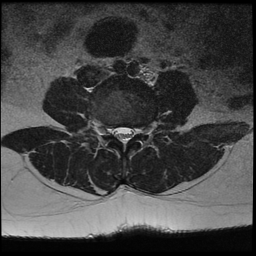CCS_normal: (121, 121, 128, 158)
LFS_stenosis: (137, 120, 145, 143)
LLS_normal: (128, 121, 136, 143)
RFS_normal: (103, 118, 112, 143)
RLS_normal: (112, 120, 121, 147)
